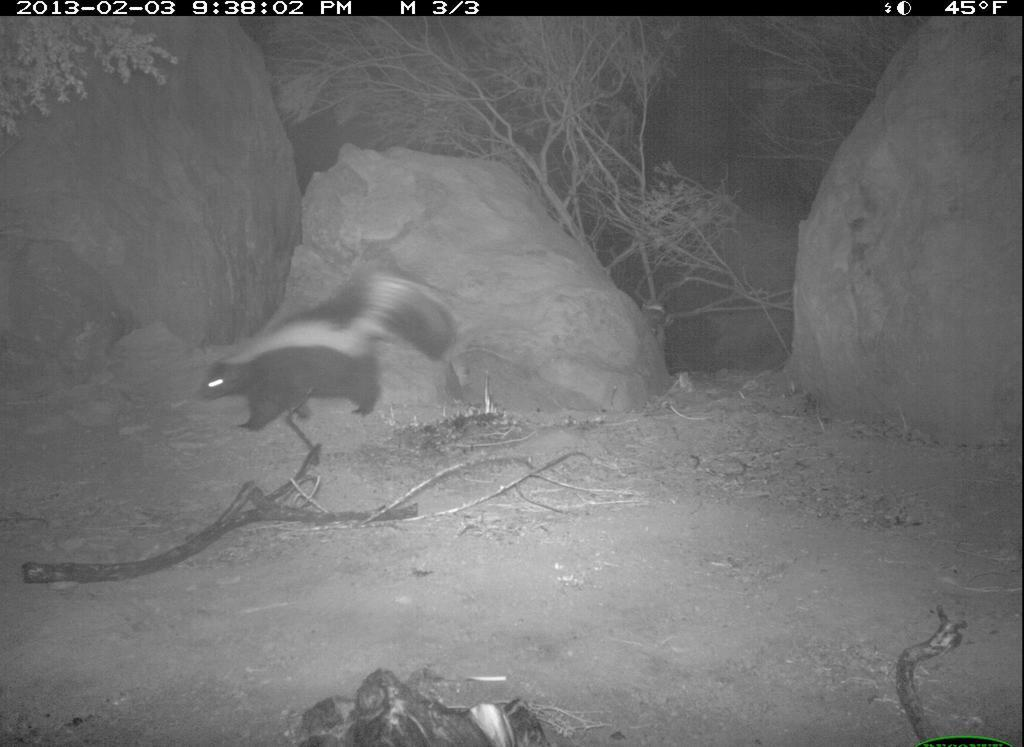skunk: (198, 271, 460, 443)
